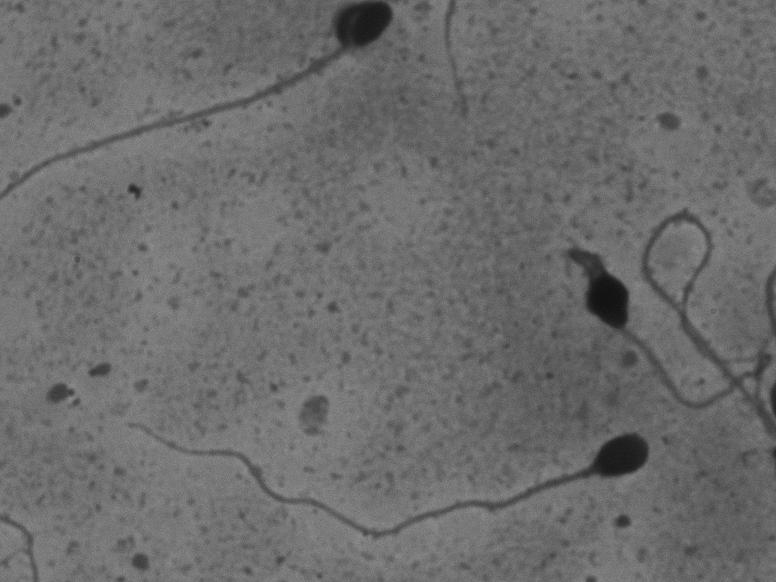Abnormal: (553, 194, 756, 420)
Normal: (107, 412, 676, 534)
